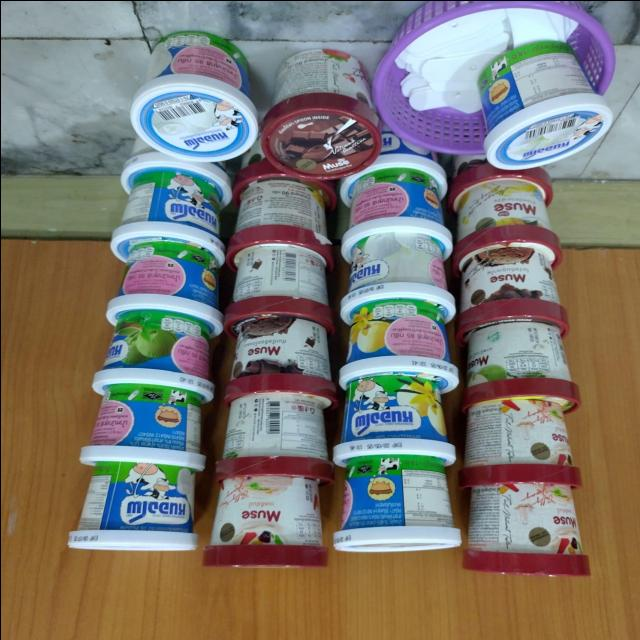plastik: (478, 40, 611, 168), (130, 31, 257, 160), (260, 48, 380, 179), (332, 454, 460, 551), (461, 483, 589, 575), (67, 461, 197, 550), (202, 474, 326, 566), (338, 298, 458, 393), (454, 246, 569, 345), (332, 373, 455, 465), (106, 240, 223, 336), (91, 310, 212, 402), (79, 382, 205, 470), (461, 320, 580, 412), (457, 399, 581, 487), (340, 231, 455, 324), (109, 171, 224, 263), (215, 393, 332, 483), (223, 316, 337, 408), (340, 167, 452, 260), (452, 179, 560, 275), (224, 177, 332, 269), (224, 245, 334, 334)
